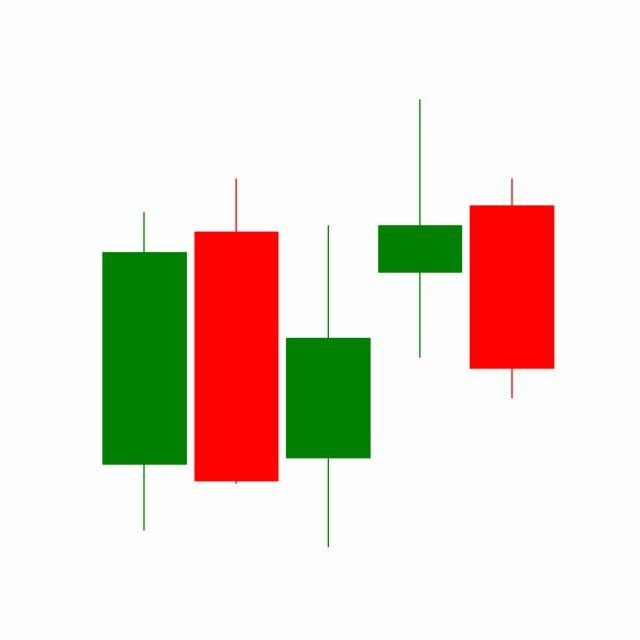Three Inside Up-Down: (190, 99, 467, 549)
